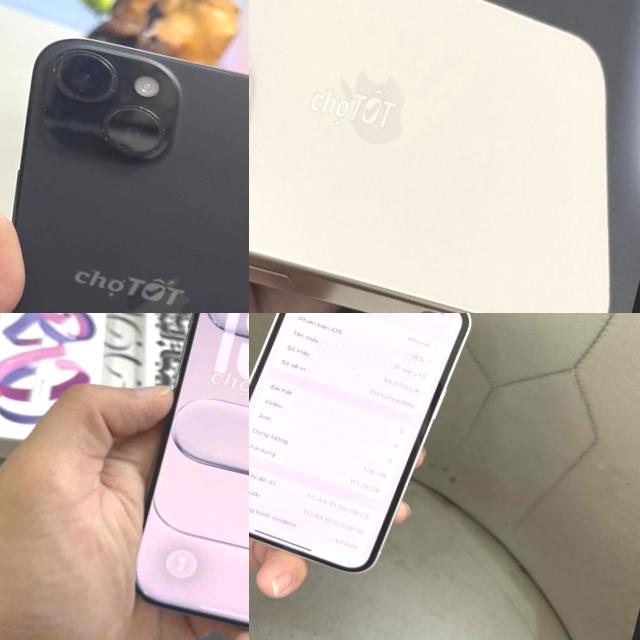gen_12_13: (249, 313, 500, 601)
gen_15: (0, 2, 249, 313)
gen_16: (249, 0, 640, 313)
gen_17: (115, 313, 249, 640)
